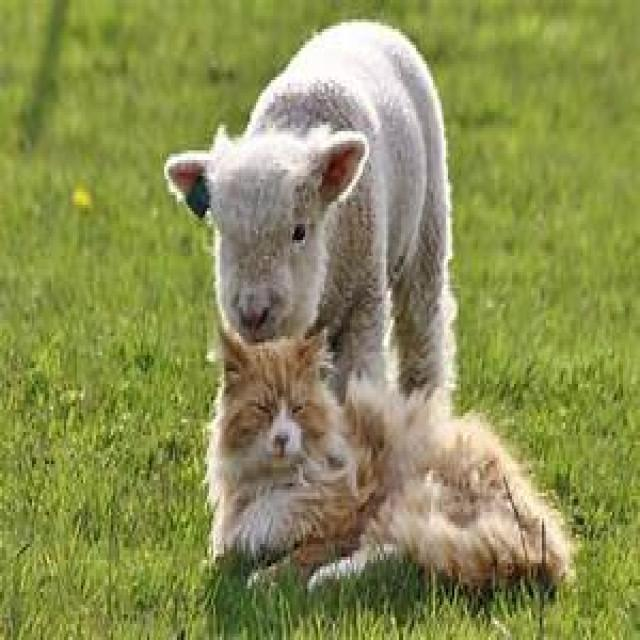cat: (159, 341, 565, 568)
sheep: (152, 6, 504, 350)
